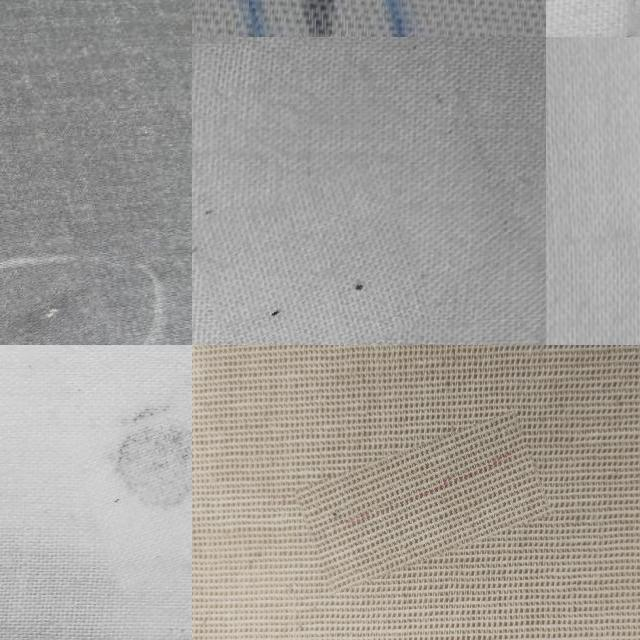Thread_other: (193, 171, 424, 345), (77, 376, 192, 574), (271, 0, 351, 37)
stains: (298, 428, 546, 576), (0, 266, 115, 345)
